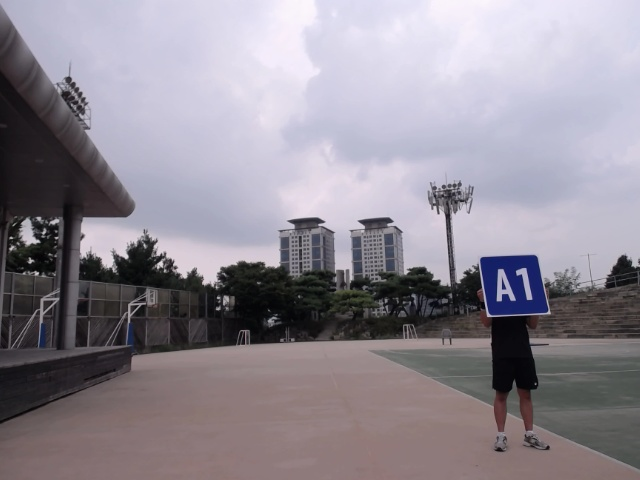delivery_a1: (480, 255, 550, 317)
